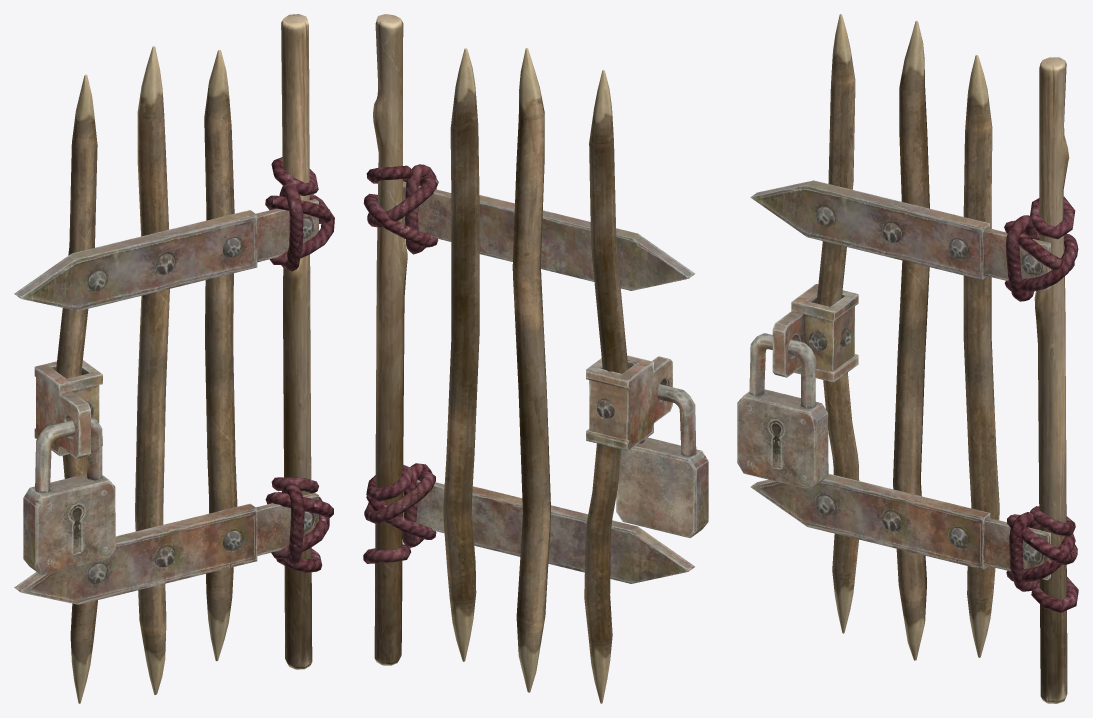
The picture shows the model from 3 angles, left to right: view 1: azimuth 30°, elevation 25°; view 2: azimuth 150°, elevation 25°; view 3: azimuth 330°, elevation 25°; orthographic projection.
Visible parts, largest first — view 1: SM_Gobliin_Cage_Door_01_LOD0; view 2: SM_Gobliin_Cage_Door_01_LOD0; view 3: SM_Gobliin_Cage_Door_01_LOD0.
Boxes of the visible parts, x1,y1,x2,y2 form: SM_Gobliin_Cage_Door_01_LOD0: (14,14,334,703); SM_Gobliin_Cage_Door_01_LOD0: (363,14,708,703); SM_Gobliin_Cage_Door_01_LOD0: (737,14,1078,703).
Bounding box in the file's own units: 1.07 × 2.09 × 0.2755.
2 materials, 2 textured.
